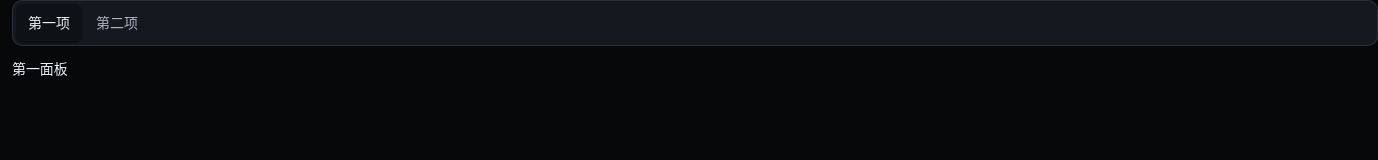
Test case: shared form and navigation primitives › switches panes when Tabs is uncontrolled
Expected: the text "第一面板" is shown, top-left (12, 60), bottom-right (68, 77)
Click the tab "第二项" at (117, 23), box top-left (84, 4), bottom-right (150, 42)
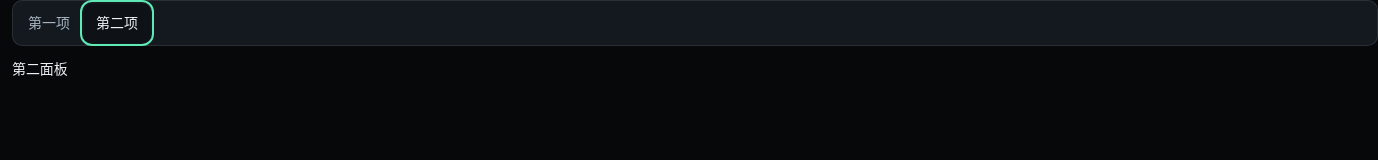
Result: the text "第二面板" is shown at top-left (12, 60), bottom-right (68, 77)
